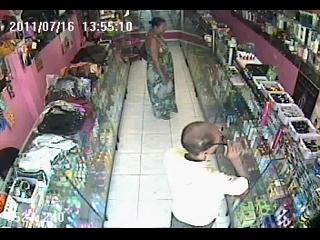Normal: (162, 121, 252, 228), (145, 17, 177, 120)
